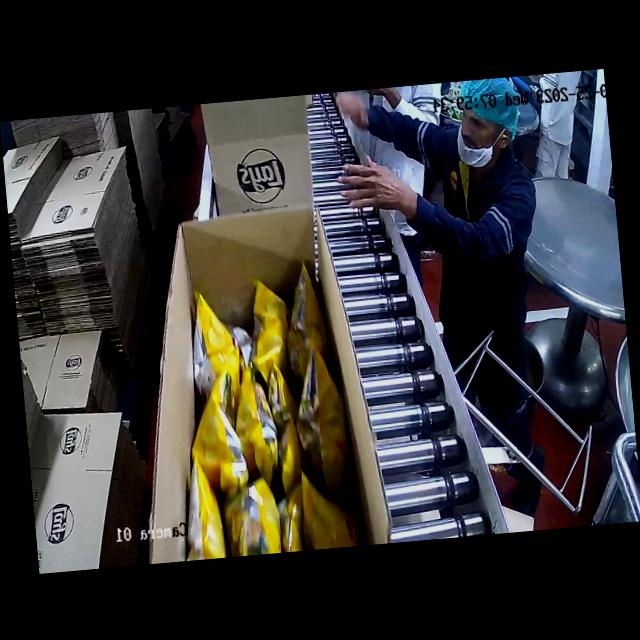salted: (180, 265, 344, 558)
